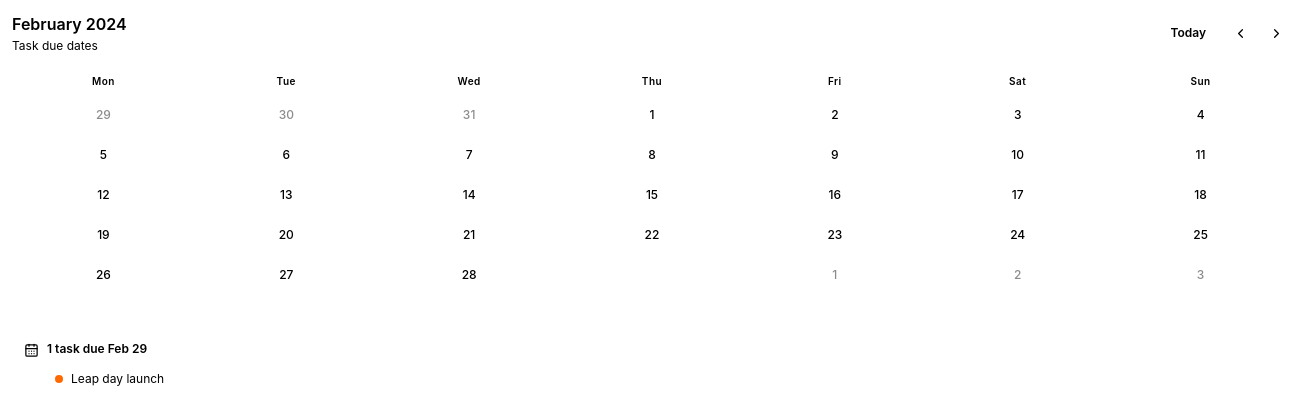
InteractiveCalendar › navigates months and returns to today
Expected: the heading "February 2024" is shown, [12,12,127,36]
Step 1. Click the button named "Next month" → (1276, 33), box [1260,17,1292,49]
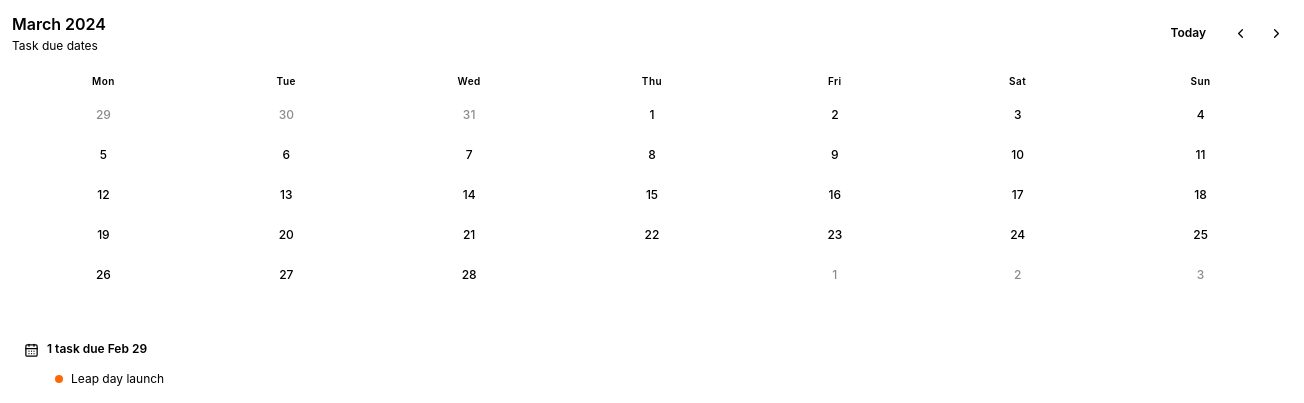
Result: the heading "March 2024" is shown at [12,12,106,36]
Step 2. Click the button "Today" → (1188, 33), box [1160,17,1216,49]
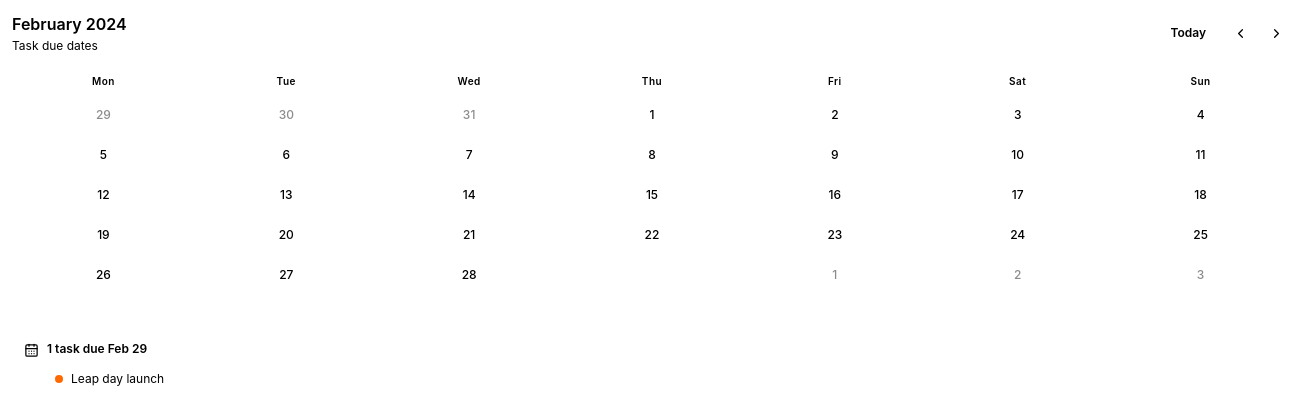
Result: the heading "February 2024" is shown at [12,12,127,36]
